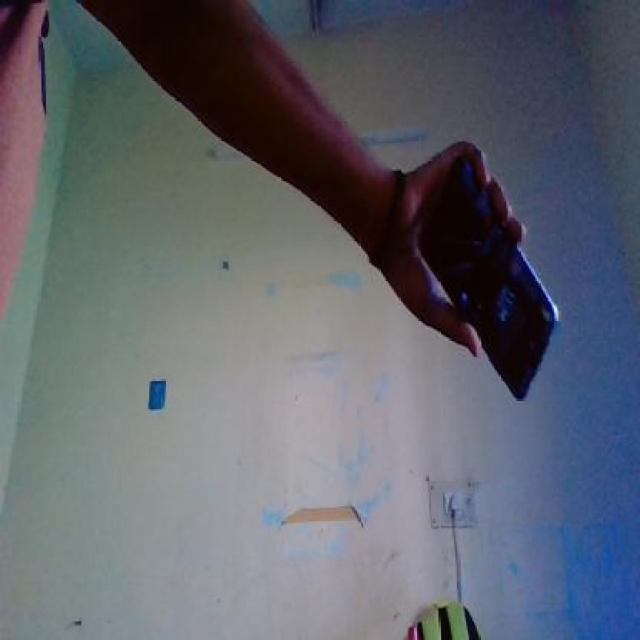Phone: (407, 146, 563, 402)
